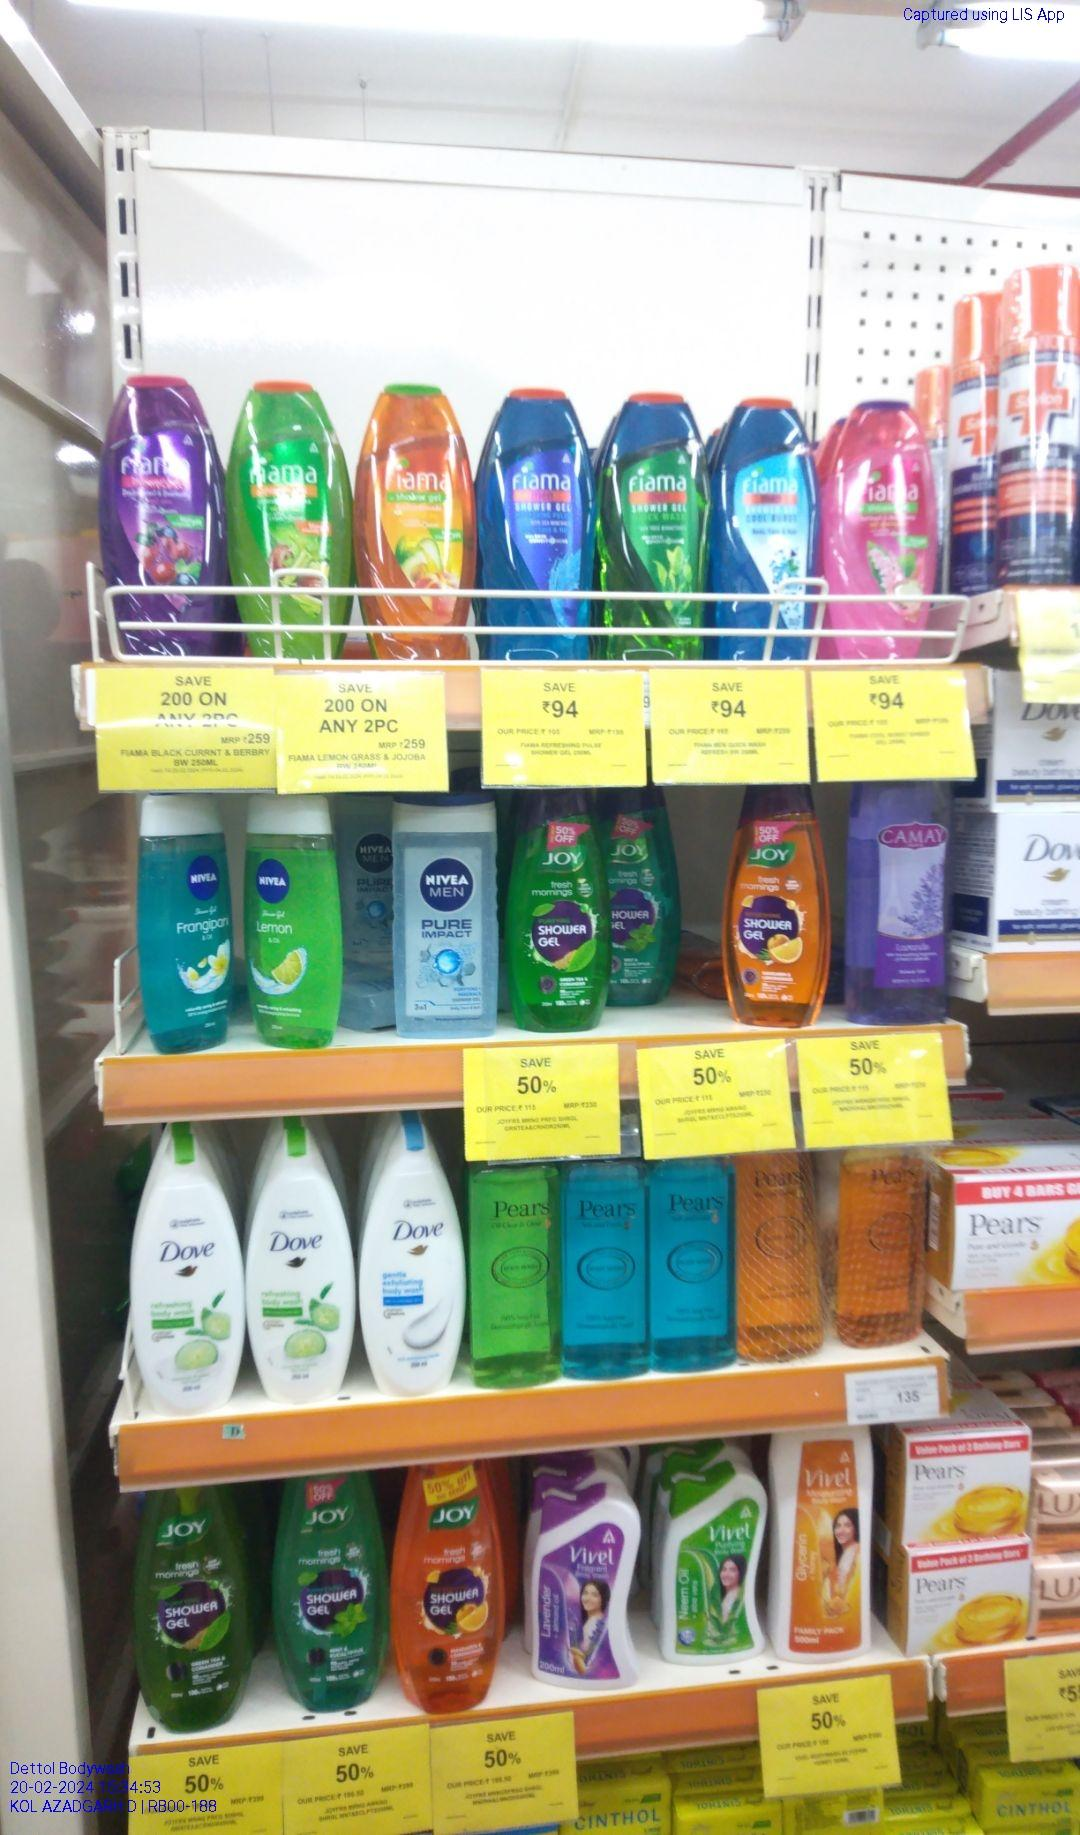Dove_Gentle_Exfoliating_Body_Wash_250ML: (365, 1113, 460, 1393)
Dove_Refreshing_Body_Wash_250ML: (126, 1118, 239, 1414), (248, 1117, 355, 1398)
Fiama_Shower_Gel_Lemongrass_and_Jojoba_250ML: (229, 377, 348, 654)
Fiama_Shower_Gel_Patchouli_and_Macadamia_250ML: (832, 387, 936, 668)
Fiama_Shower_Gel_Peach_and_Avocado_250ML: (355, 386, 471, 662)
Joy_Shower_Gel_Mandarin_and_Lemongrass_250ML: (724, 786, 827, 1027), (509, 797, 611, 1036)
Joy_Shower_Gel_Mint_and_Eucalyptus_250ML: (615, 789, 674, 1007)
Nivea_Shower_Gel_Frangipani_and_Oil_250ML: (140, 786, 240, 1064)
Nivea_Shower_Gel_Lemon_and_Oil_250ML: (248, 794, 339, 1050)
Pears_Pure_Glycerin_and_Lemon_Flower_Extracts_Body_Wash_250ML: (473, 1166, 564, 1392)
Pears_Pure_Glycerin_and_Mint_Extracts_Body_Wash_250ML: (571, 1155, 647, 1380), (654, 1160, 734, 1369)
